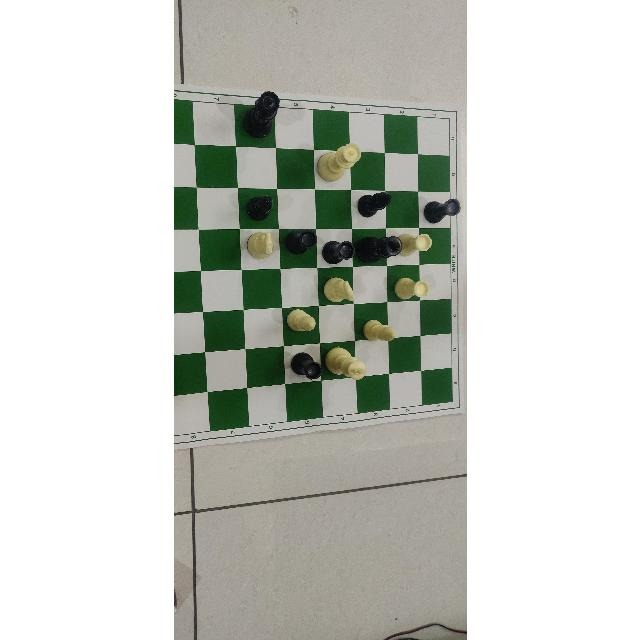black-bishop: (355, 191, 391, 219), (247, 193, 273, 223)
black-king: (357, 237, 401, 263)
black-queen: (240, 88, 281, 140)
black-rook: (423, 195, 460, 224), (290, 351, 322, 380), (282, 230, 317, 256), (320, 240, 355, 264)
white-bishop: (361, 319, 397, 343), (284, 307, 316, 333)
white-king: (323, 346, 366, 382)
white-knight: (320, 276, 355, 304), (245, 230, 275, 260)
white-queen: (316, 142, 364, 186)
white-rook: (391, 277, 428, 301), (400, 232, 433, 258)
